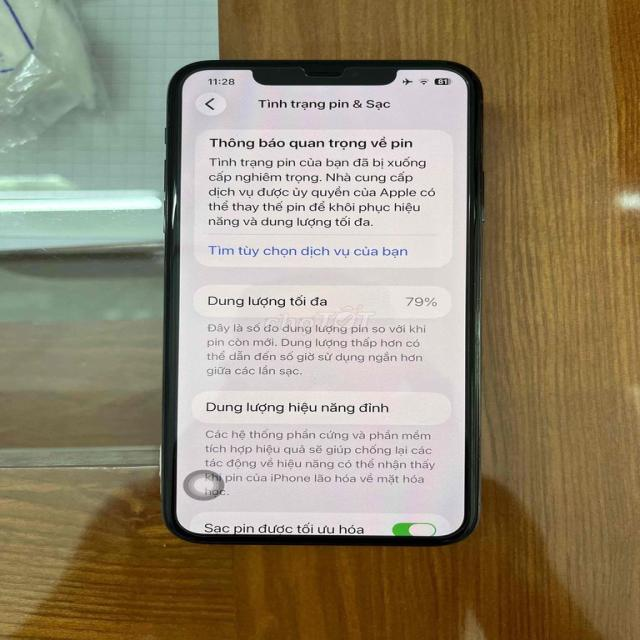gen_11: (152, 53, 484, 554)
